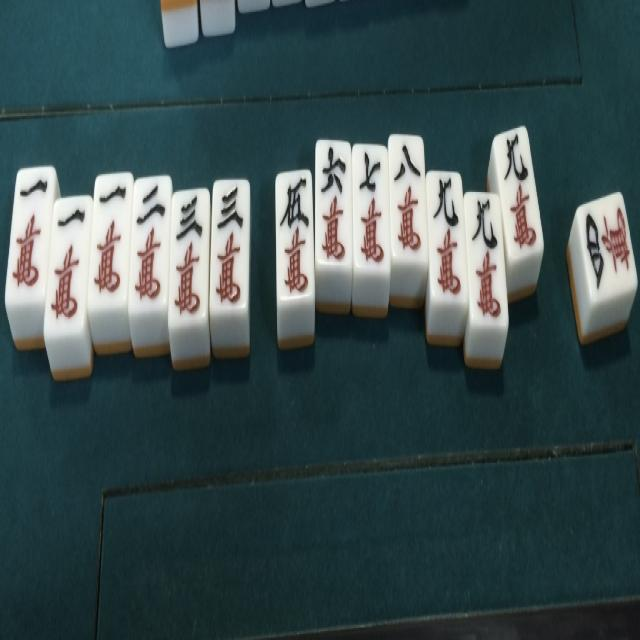characters_1: (42, 199, 92, 338), (6, 167, 54, 302), (88, 170, 132, 308)
characters_2: (128, 173, 170, 311)
characters_3: (167, 184, 208, 324), (209, 174, 249, 314)
characters_4: (576, 184, 640, 304)
characters_5: (274, 165, 316, 304)
characters_6: (314, 134, 353, 275)
characters_7: (352, 140, 392, 278)
characters_8: (388, 131, 428, 271)
characters_9: (492, 118, 544, 264), (462, 186, 508, 327), (426, 168, 470, 313)
